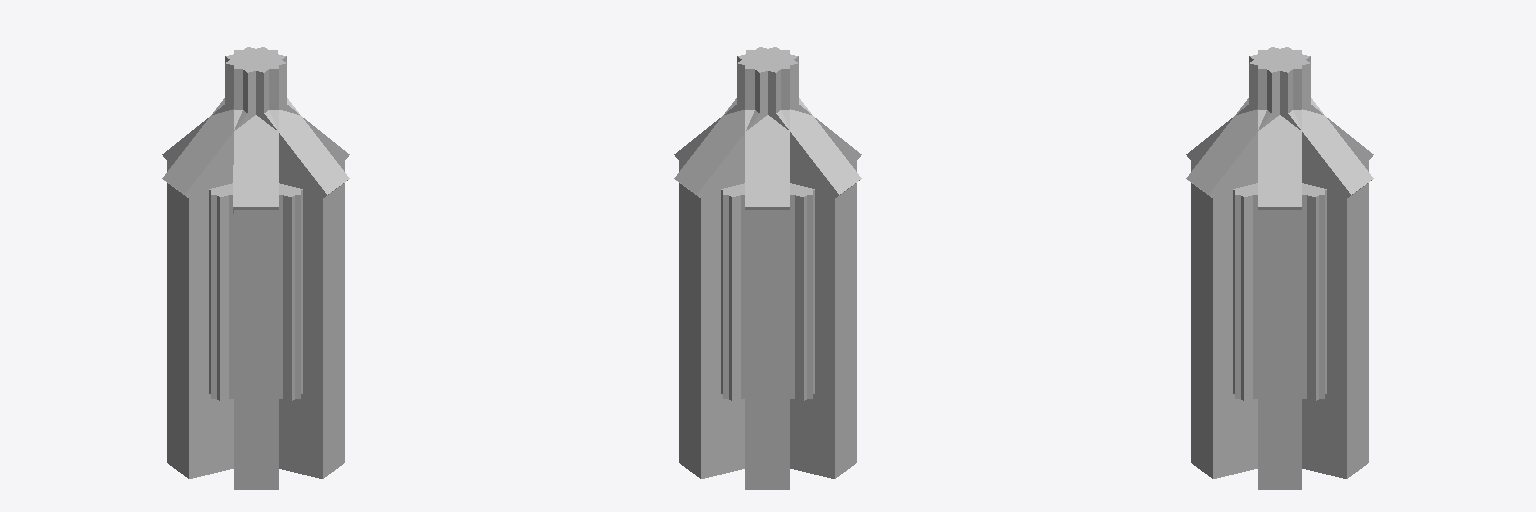
Rendered from missile_head_concussion.obj.
3 renders of one model, left to right at view 1: azimuth 30°, elevation 25°; view 2: azimuth 150°, elevation 25°; view 3: azimuth 270°, elevation 25°, orthographic.
Visible parts, largest first — view 1: Component_9, Component_10, Component_12, Component_11; view 2: Component_9, Component_10, Component_12, Component_11; view 3: Component_9, Component_10, Component_12, Component_11.
Part boxes in pixels (bbox=[...]): Component_9: bbox=[167, 156, 344, 489]; Component_10: bbox=[162, 97, 349, 213]; Component_12: bbox=[209, 183, 302, 400]; Component_11: bbox=[225, 47, 286, 119]; Component_9: bbox=[679, 156, 856, 489]; Component_10: bbox=[674, 97, 861, 213]; Component_12: bbox=[721, 183, 814, 400]; Component_11: bbox=[737, 47, 798, 119]; Component_9: bbox=[1191, 156, 1368, 489]; Component_10: bbox=[1186, 97, 1373, 209]; Component_12: bbox=[1233, 183, 1326, 400]; Component_11: bbox=[1249, 47, 1310, 112].
Bounding box in the file's own units: 53.45 × 121 × 52.59.